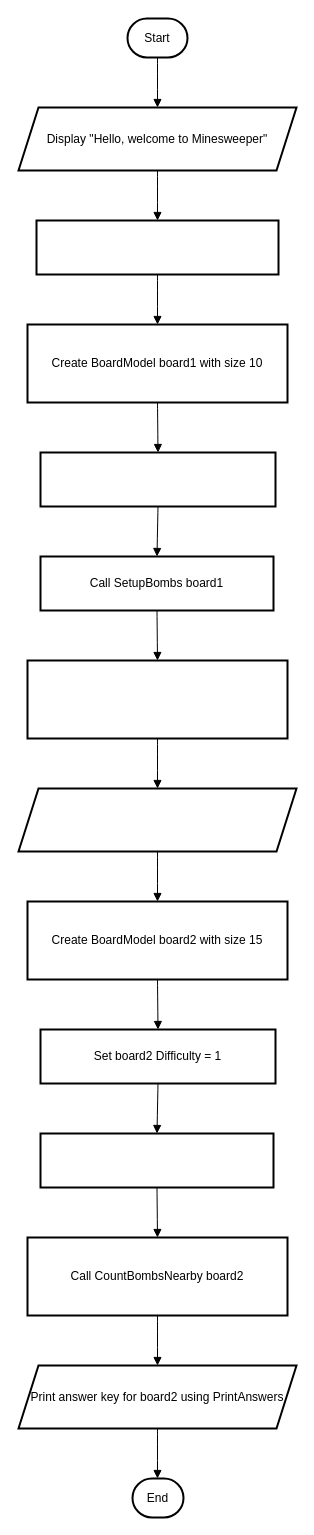
The diagram is 314 pixels wide and 1535 high, and some of its shapes have lost their labels. Here are the shapes that lost their labels. From the top down, the centre of each, then its label:
the point at 157,247: Create BoardLogic object
the point at 157,479: Set board1 Difficulty = 1
the point at 157,699: Call CountBombsNearby board1
the point at 157,819: Print answer key for board1 using PrintAnswers
the point at 156,1160: Call SetupBombs board2
